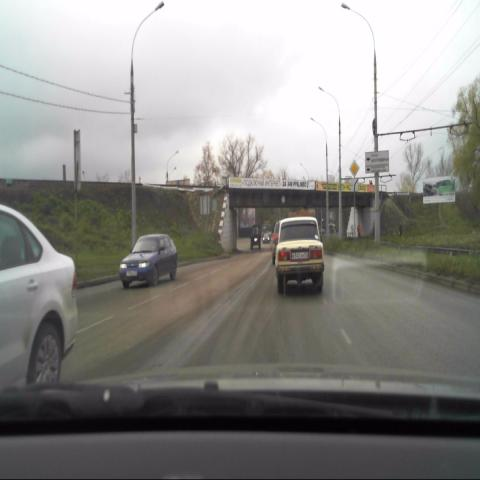2_1: (349, 160, 359, 177)
